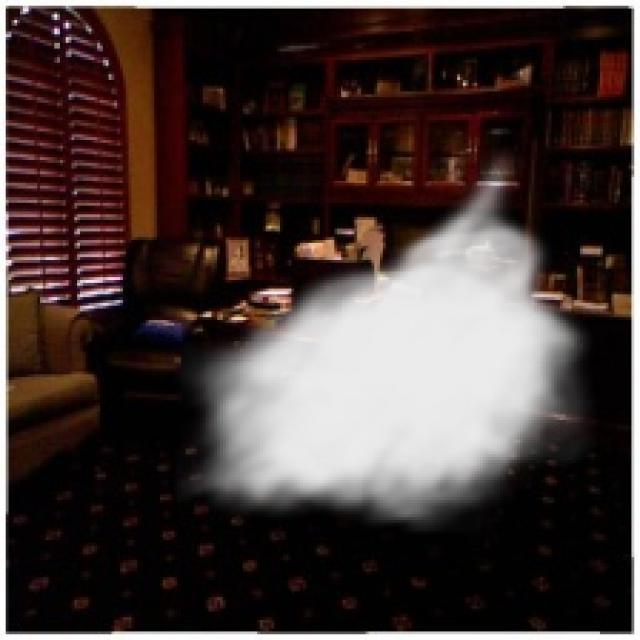Smoke: (174, 146, 597, 534)
